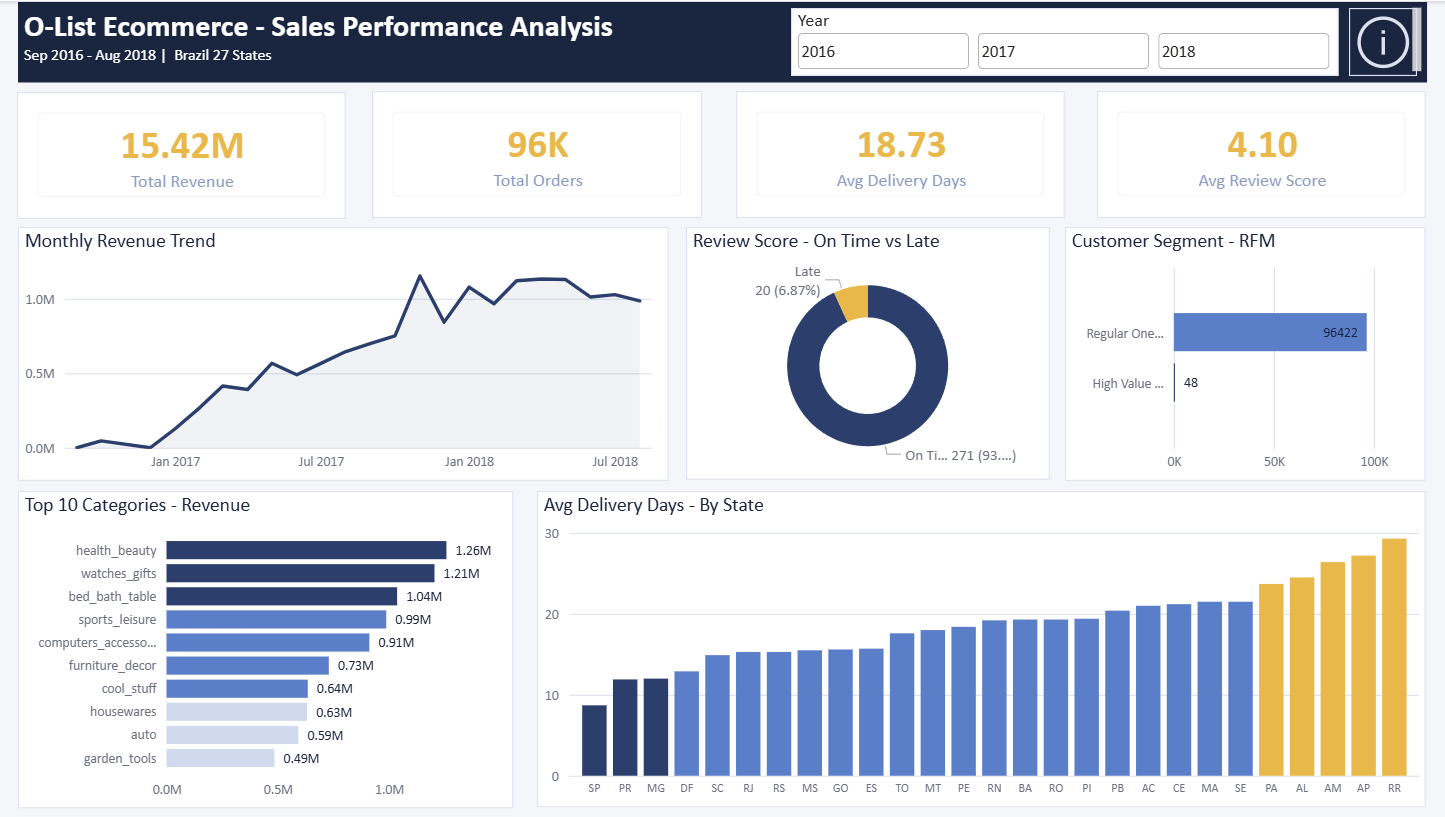

Layout of this report page (visuals, bound fields, positions):
{"tool":"powerbi","page":{"name":"Dashboard","canvas":[1280,720],"ordinal":0},"visuals":[{"type":"cardVisual","fields":{"Data":["Sum(Query1_Monthly_Revenue.total_revenue)"]},"box":[18,80,290.3,111.9],"z":0},{"type":"cardVisual","fields":{"Data":["Sum(Query1_Monthly_Revenue.total_orders)"]},"box":[330.6,79.6,291.3,111.9],"z":1000},{"type":"cardVisual","fields":{"Data":["Avg(Query3_Delivery_Performance.avg_delivery_days)"]},"box":[652.1,79.6,290.3,111.9],"z":2000},{"type":"cardVisual","fields":{"Data":["Query4_Review_vs_Delivery.Overall Avg Rating"]},"box":[970.6,79.6,290.3,111.9],"z":3000},{"type":"textbox","box":[18.1,1,1242.7,71],"z":4000},{"type":"lineChart","title":"Monthly Revenue Trend","fields":{"Category":["Query1_Monthly_Revenue.month.Variation.Date Hierarchy.Year","Query1_Monthly_Revenue.month.Variation.Date Hierarchy.Month"],"Y":["Sum(Query1_Monthly_Revenue.total_revenue)"]},"box":[18.1,199,574.5,223.7],"z":5000},{"type":"donutChart","title":"Review Score - On Time vs Late","fields":{"Category":["Query4_Review_vs_Delivery.delivery_status"],"Y":["Sum(Query4_Review_vs_Delivery.total_orders)"]},"box":[607.7,199,320.5,222.7],"z":6000},{"type":"clusteredBarChart","title":"Customer Segment - RFM","fields":{"Category":["Query5_RFM_SEgmentation_2.customer_segment"],"Y":["Sum(Query5_RFM_SEgmentation_2.total_customers)"]},"box":[942.4,199,318.5,223.7],"z":7000},{"type":"barChart","title":"Top 10 Categories - Revenue","fields":{"Category":["Query2_Top_Categories.category"],"Y":["Sum(Query2_Top_Categories.revenue)"]},"box":[18.1,432,437.4,280],"z":8000},{"type":"clusteredColumnChart","title":"Avg Delivery Days - By State","fields":{"Category":["Query3_Delivery_Performance.customer_state"],"Y":["Sum(Query3_Delivery_Performance.avg_delivery_days)"]},"box":[476.7,432,784.1,279.2],"z":9000},{"type":"advancedSlicerVisual","fields":{"Values":["Query1_Monthly_Revenue.month.Variation.Date Hierarchy.Year"]},"box":[700.5,6,482.8,60.5],"z":9001},{"type":"actionButton","box":[1192.3,6,60.5,60.5],"z":9002}]}

Visuals, with their boxes in screenshot pixels (x1, y1, x2, y2), scaled from the page's 1280x720 canvas onto the 1445x817 screenshot:
cardVisual - Sum(Query1_Monthly_Revenue.total_revenue): 20 91 348 218
cardVisual - Sum(Query1_Monthly_Revenue.total_orders): 373 90 702 217
cardVisual - Avg(Query3_Delivery_Performance.avg_delivery_days): 736 90 1064 217
cardVisual - Query4_Review_vs_Delivery.Overall Avg Rating: 1096 90 1423 217
textbox: 20 1 1423 82
"Monthly Revenue Trend" lineChart: 20 226 669 480
"Review Score - On Time vs Late" donutChart: 686 226 1048 479
"Customer Segment - RFM" clusteredBarChart: 1064 226 1423 480
"Top 10 Categories - Revenue" barChart: 20 490 514 808
"Avg Delivery Days - By State" clusteredColumnChart: 538 490 1423 807
advancedSlicerVisual - Query1_Monthly_Revenue.month.Variation.Date Hierarchy.Year: 791 7 1336 75
actionButton: 1346 7 1414 75
